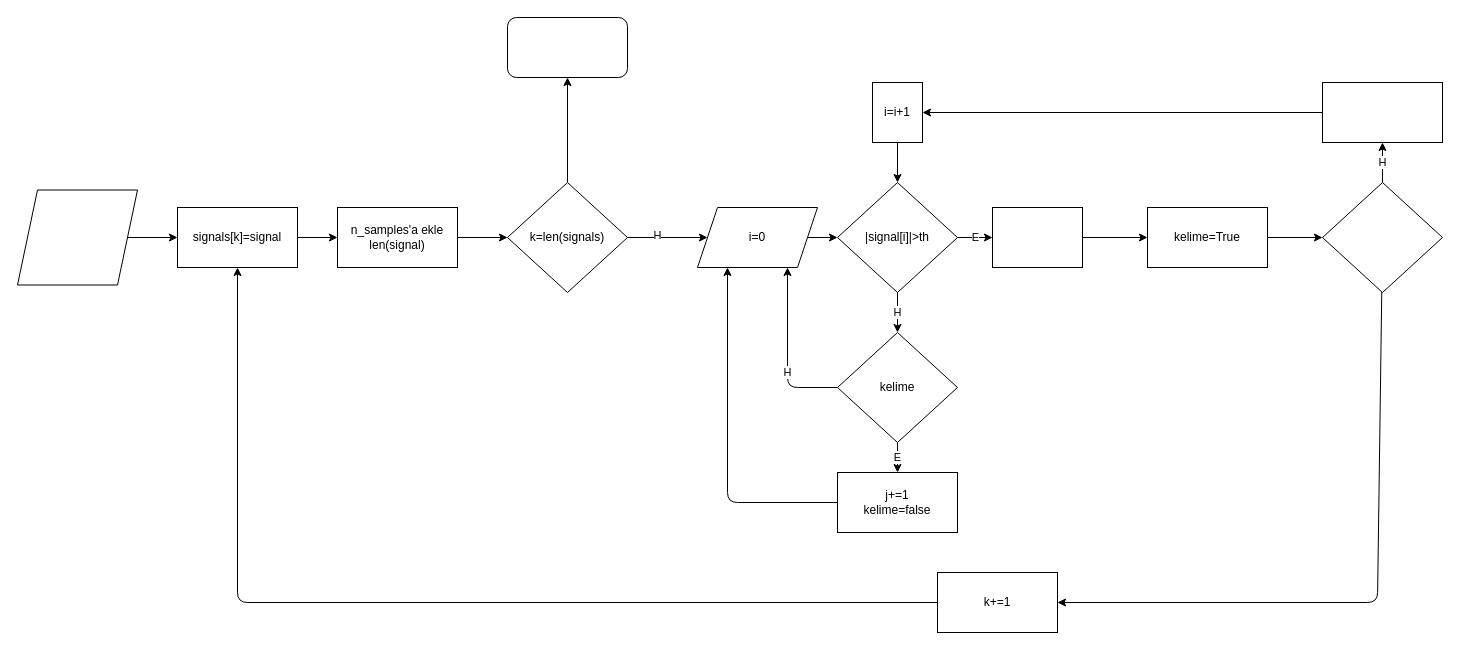
Some shapes in this 1460 by 650 pixel diagram are drawn without their labels. The shapes that lost their labels are listed below. From the top down, each one's centre as x and y in pixels, then its label:
pixel 567 47: Bitir return out,n_samples
pixel 1382 112: n_samples ekle len(signal)
pixel 77 237: th signals out = [] kelime=False n_samples = [] k=0
pixel 1037 237: out[j][i]=signal[i]
pixel 1382 237: İ=sinyalin uzunluğu
